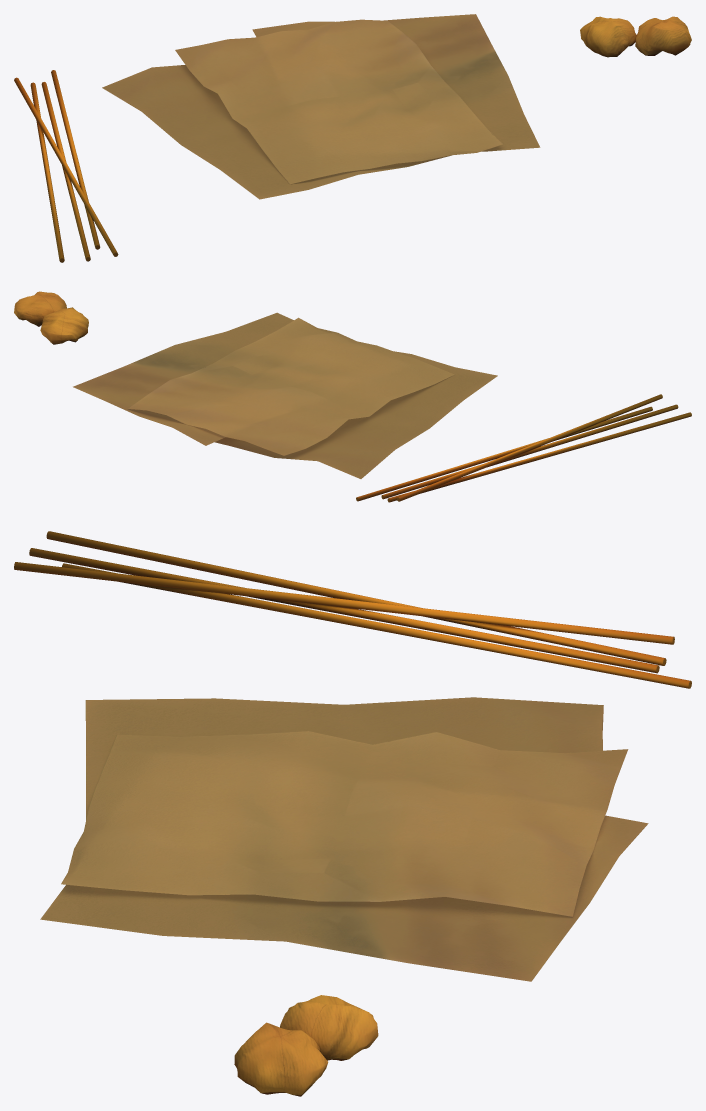
File: Stock.glb
3 views of the same model, one above another, from view 1: azimuth 30°, elevation 25°; view 2: azimuth 150°, elevation 25°; view 3: azimuth 270°, elevation 25° (orthographic). The views are drawn at different scales.
Parts seen in each view (by area): view 1: Stock.001; view 2: Stock.001; view 3: Stock.001.
Part boxes in pixels (<box>): Stock.001: <box>14,14,691,262</box>; Stock.001: <box>14,291,691,502</box>; Stock.001: <box>14,531,691,1096</box>.
Bounding box in the file's own units: 1.65 × 0.0707 × 0.8431.
1 material, 1 textured.
